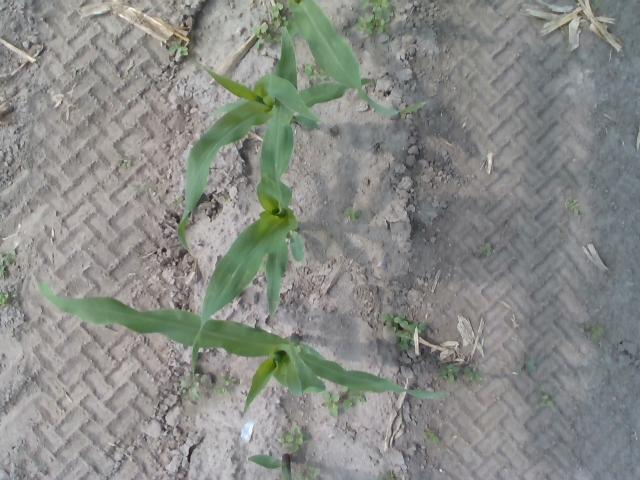Maize: (33, 272, 448, 420), (191, 26, 307, 393), (176, 63, 374, 252), (286, 1, 426, 117), (247, 453, 293, 480)
Weeds: (381, 314, 426, 350), (355, 1, 394, 38), (255, 22, 271, 50), (340, 392, 364, 410), (322, 392, 340, 416), (220, 370, 237, 394), (0, 253, 16, 278), (270, 2, 283, 30), (443, 364, 460, 382), (424, 426, 440, 445), (475, 243, 493, 258), (170, 42, 188, 57), (462, 367, 481, 381), (286, 434, 302, 450), (1, 286, 15, 304), (344, 207, 359, 222), (518, 360, 536, 372), (568, 198, 580, 215), (592, 327, 604, 339), (539, 396, 553, 406), (123, 158, 132, 168)
